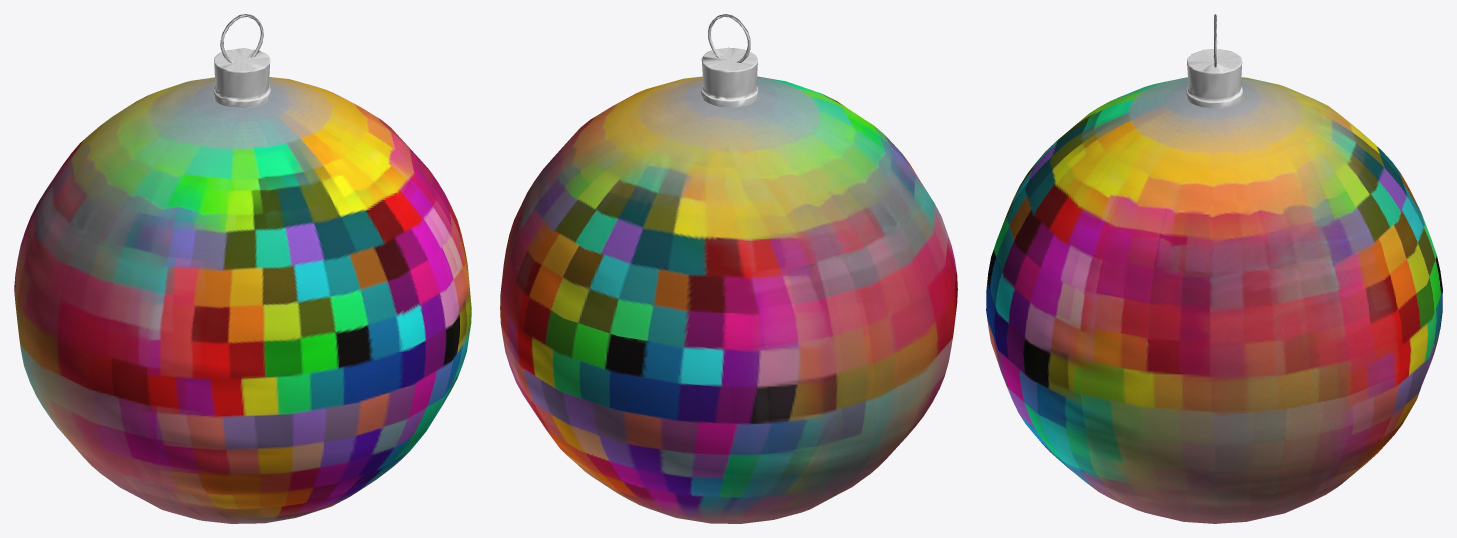
The model's file is BouleDisco.fbx.
3 views of the same model, side by side, from view 1: azimuth 30°, elevation 25°; view 2: azimuth 150°, elevation 25°; view 3: azimuth 270°, elevation 25° (orthographic).
Parts seen in each view (by area): view 1: Mesh_0; view 2: Mesh_0; view 3: Mesh_0.
Boxes of the visible parts, box(x1,y1,x2,y2) form: Mesh_0: box(14, 14, 471, 523); Mesh_0: box(500, 14, 957, 523); Mesh_0: box(986, 14, 1442, 523).
Bounding box in the file's own units: 85.54 × 99.86 × 84.92.
1 material, 1 textured.
